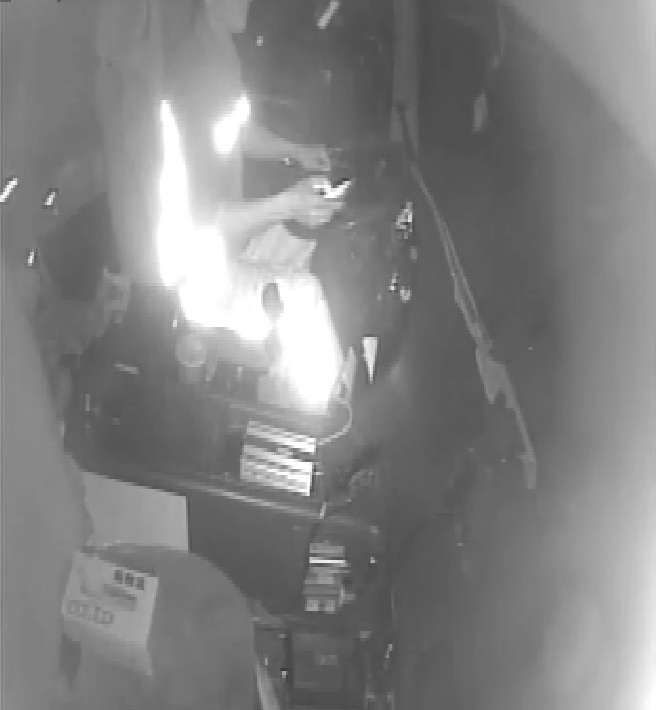cellphone: (304, 175, 355, 218)
